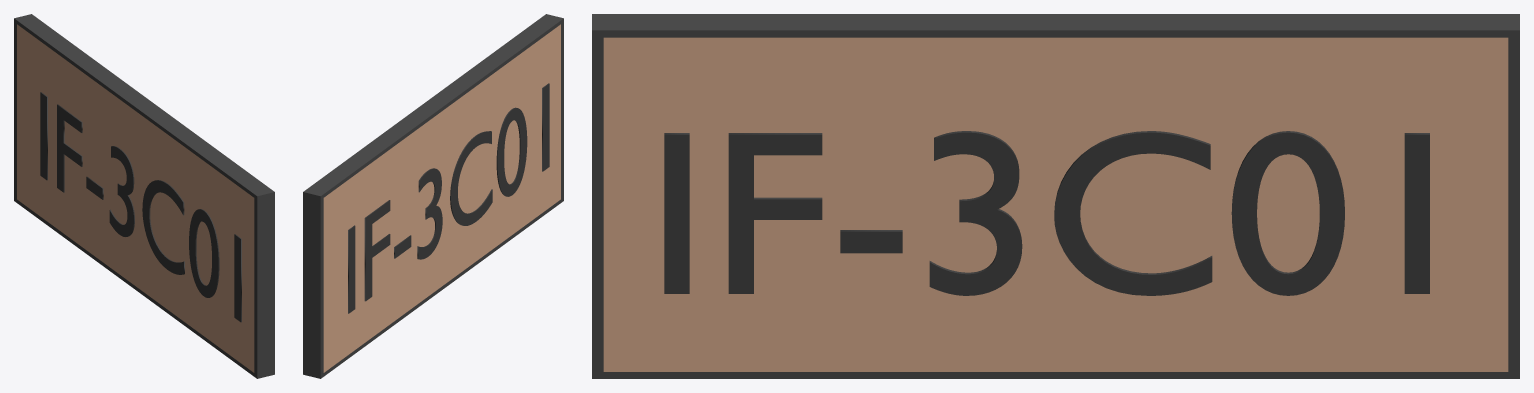
3 views of the same model, side by side, from view 1: azimuth 30°, elevation 25°; view 2: azimuth 150°, elevation 25°; view 3: azimuth 270°, elevation 25° (orthographic). The views are drawn at different scales.
Visible parts, largest first — view 1: Cube; view 2: Cube; view 3: Cube.
Part boxes in pixels (x1=…): Cube: x1=14, y1=14, x2=274, y2=378; Cube: x1=303, y1=14, x2=563, y2=378; Cube: x1=592, y1=14, x2=1519, y2=378.
Bounding box in the file's own units: 11.96 × 102 × 247.
